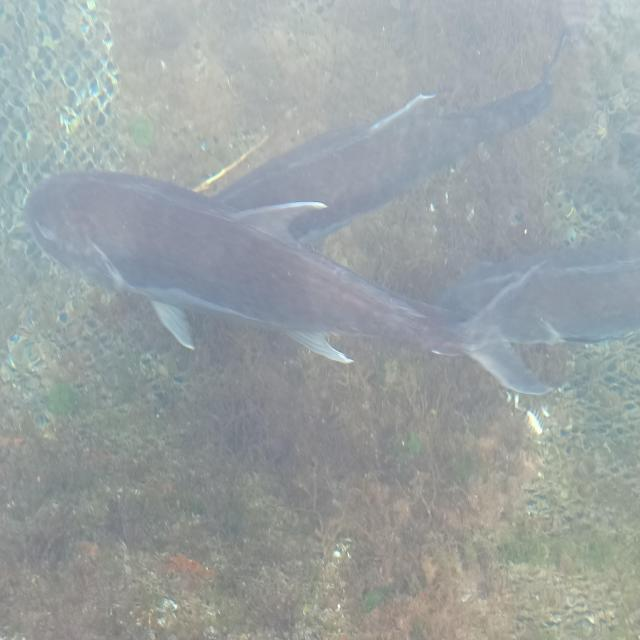ikan: (22, 28, 634, 396), (194, 28, 571, 250)
